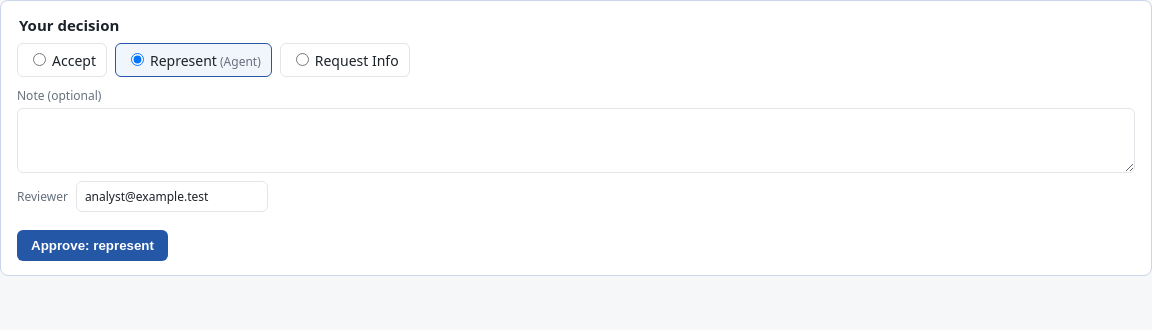
Test: DecisionForm › explains a conflict when the dispute changed underneath the reviewer
Click the button "Approve: represent": [92, 246] box x1=17 y1=230 x2=168 y2=261
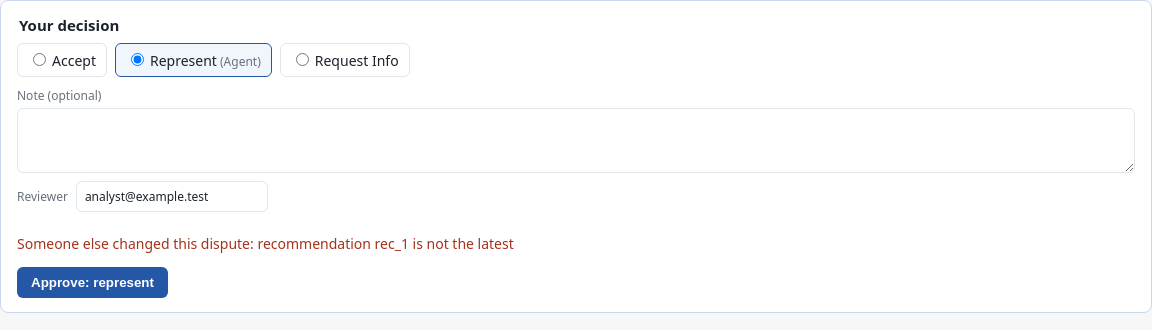
Result: the text "Someone else changed this dispute" is shown at x1=17 y1=234 x2=514 y2=253
